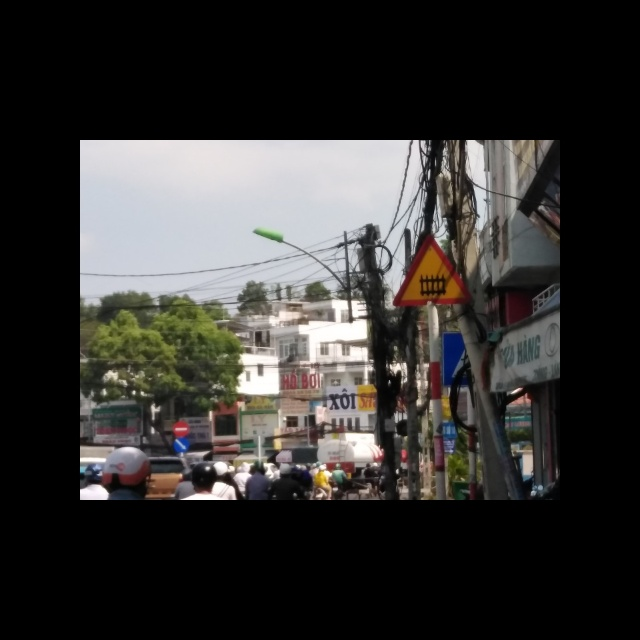Giao nhau với đường sắt có rào chắn: (394, 231, 474, 307)
